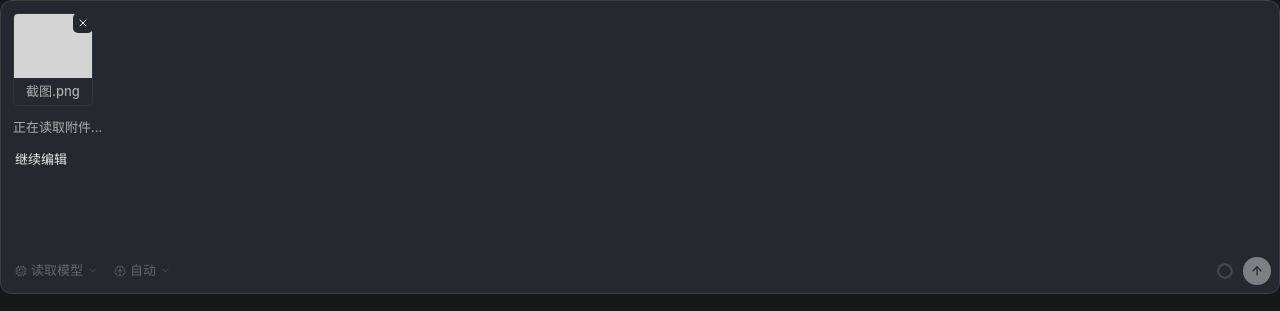
it: PromptInput › 读入图片时禁止按钮、表单和 Enter 提交，仍可编辑和移除
This screenshot has width=1280, height=311.
Expected: the button named "发送任务" is disabled, [1243,257,1271,285]
Expected: the message "正在读取附件…" is shown, [13,119,102,135]
Submit the form
Press Enter in the field labelled "继续编辑", box [15,151,67,167]
Click the button named "移除附件：截图.png" at {"x": 83, "y": 23}, box [73,13,93,33]
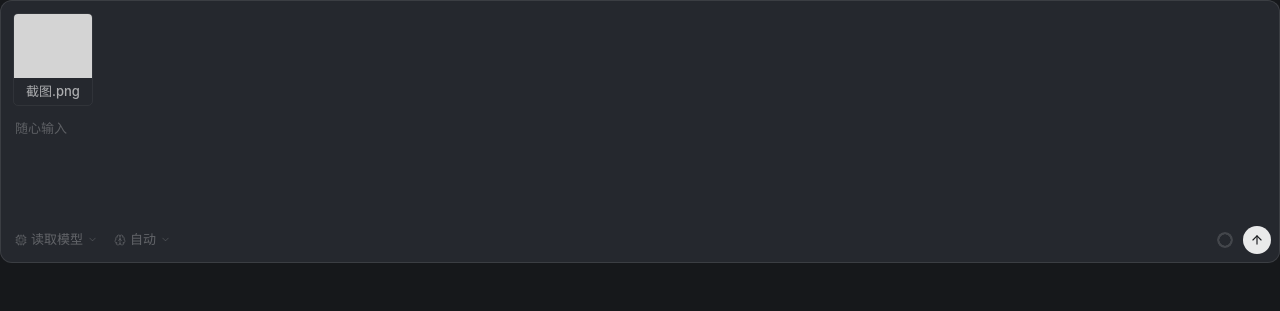
Expected: the button named "发送任务" is enabled, [1243,226,1271,254]
